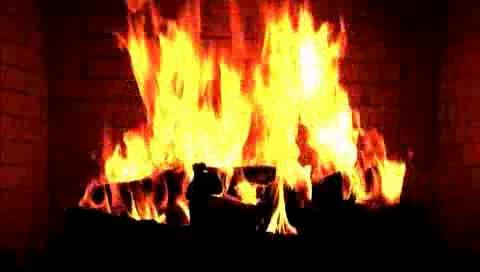fire: (90, 0, 419, 229)
